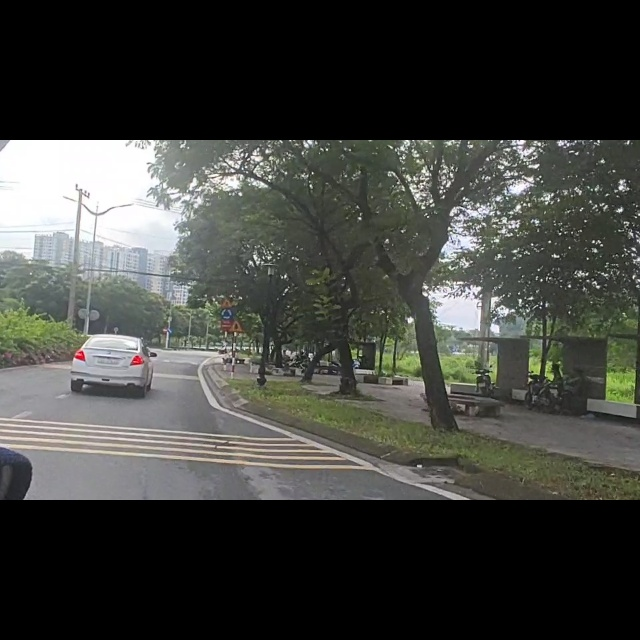bien_hieu_lenh: (229, 319, 246, 344), (220, 300, 234, 320), (221, 279, 233, 299), (167, 333, 174, 345), (161, 332, 167, 343)
